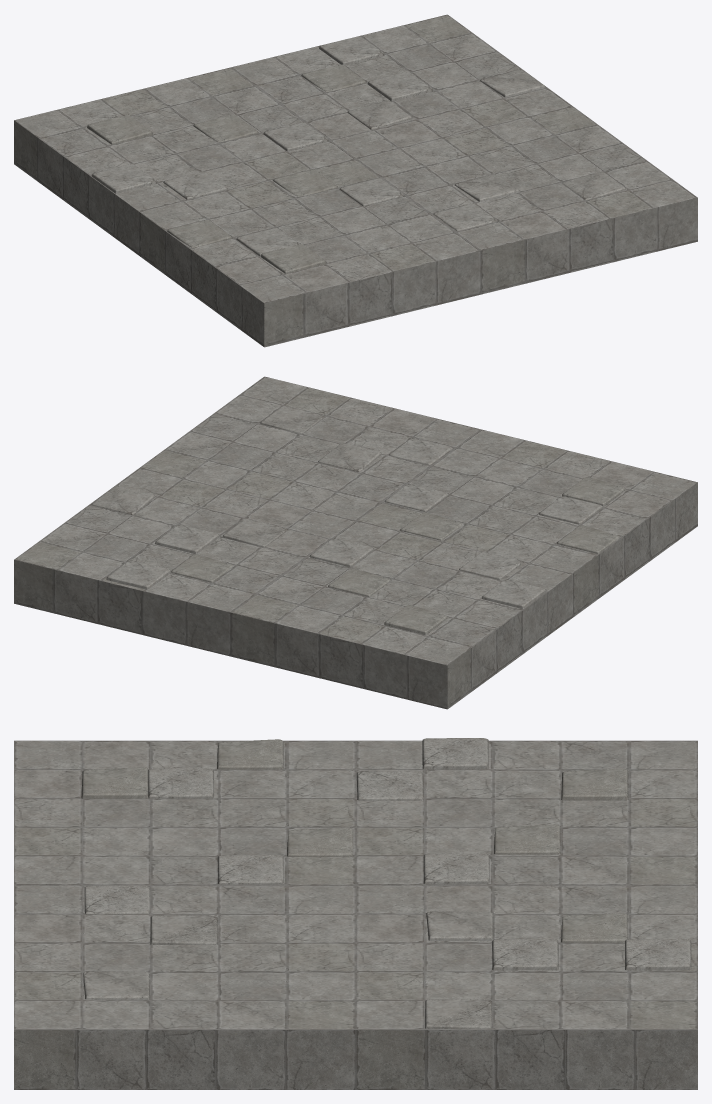
File: SM_Exterior_Floor_1.fbx
3 renders of one model, top to bottom at view 1: azimuth 30°, elevation 25°; view 2: azimuth 150°, elevation 25°; view 3: azimuth 270°, elevation 25°, orthographic. The views are drawn at different scales.
Visible parts, largest first — view 1: SM_Exterior_Floor_1_LOD0; view 2: SM_Exterior_Floor_1_LOD0; view 3: SM_Exterior_Floor_1_LOD0.
Part boxes in pixels (x1=…): SM_Exterior_Floor_1_LOD0: x1=14, y1=14, x2=697, y2=347; SM_Exterior_Floor_1_LOD0: x1=14, y1=376, x2=697, y2=709; SM_Exterior_Floor_1_LOD0: x1=14, y1=738, x2=697, y2=1089.
Bounding box in the file's own units: 500 × 500 × 52.19.
